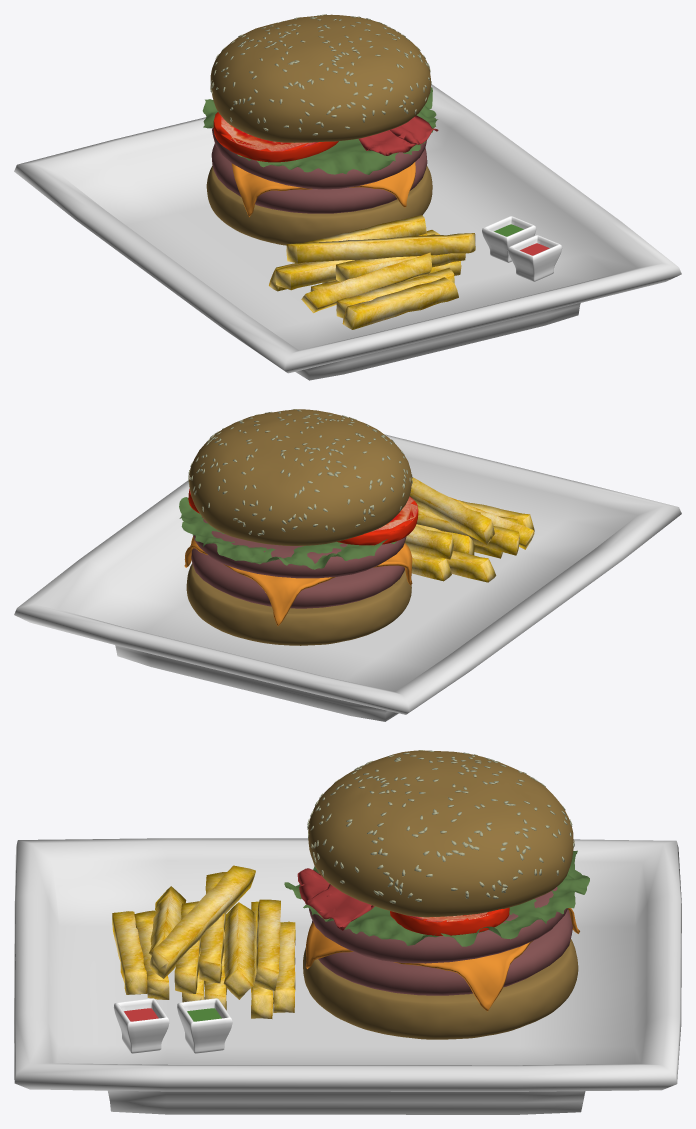
The model's file is menu1.glb.
The picture shows the model from 3 angles, top to bottom: view 1: azimuth 30°, elevation 25°; view 2: azimuth 150°, elevation 25°; view 3: azimuth 270°, elevation 25°; orthographic projection. The views are drawn at different scales.
Parts seen in each view (by area): view 1: plato, Cylinder002_7, Cube073, Cylinder002_2, Cylinder002, Cylinder002_3, Cylinder002_8, Cylinder002_1, Cylinder002_4, Cylinder002_5, Cube002, Cube073_1 (+2 smaller); view 2: plato, Cylinder002_7, Cylinder002, Cylinder002_2, Cube073, Cylinder002_3, Cylinder002_1, Cylinder002_8, Cylinder002_5, Cube073_1, Cylinder002_6; view 3: plato, Cylinder002_7, Cube073, Cylinder002, Cylinder002_2, Cube073_1, Cylinder002_3, Cylinder002_1, Cylinder002_8, Cylinder002_4, Cube002, Cube003 (+1 smaller).
Boxes of the visible parts, x1=… form: plato: x1=14, y1=84, x2=681, y2=380; Cylinder002_7: x1=210, y1=14, x2=430, y2=142; Cube073: x1=276, y1=215, x2=474, y2=329; Cylinder002_2: x1=211, y1=127, x2=427, y2=213; Cylinder002: x1=206, y1=165, x2=432, y2=245; Cylinder002_3: x1=202, y1=87, x2=437, y2=174; Cylinder002_8: x1=210, y1=14, x2=431, y2=135; Cylinder002_1: x1=231, y1=162, x2=415, y2=216; Cylinder002_4: x1=358, y1=115, x2=438, y2=155; Cylinder002_5: x1=213, y1=112, x2=338, y2=162; Cube002: x1=507, y1=235, x2=562, y2=281; Cube073_1: x1=269, y1=227, x2=475, y2=329; plato: x1=14, y1=434, x2=681, y2=721; Cylinder002_7: x1=189, y1=409, x2=411, y2=545; Cylinder002: x1=186, y1=563, x2=411, y2=645; Cylinder002_2: x1=191, y1=517, x2=406, y2=608; Cube073: x1=404, y1=477, x2=533, y2=582; Cylinder002_3: x1=179, y1=497, x2=396, y2=569; Cylinder002_1: x1=184, y1=536, x2=412, y2=625; Cylinder002_8: x1=188, y1=409, x2=412, y2=535; Cylinder002_5: x1=188, y1=490, x2=418, y2=545; Cube073_1: x1=438, y1=513, x2=534, y2=582; Cylinder002_6: x1=189, y1=489, x2=417, y2=531; plato: x1=14, y1=838, x2=681, y2=1114; Cylinder002_7: x1=308, y1=750, x2=573, y2=917; Cube073: x1=112, y1=865, x2=295, y2=1015; Cylinder002: x1=303, y1=939, x2=578, y2=1039; Cylinder002_2: x1=309, y1=887, x2=572, y2=995; Cube073_1: x1=125, y1=948, x2=295, y2=1018; Cylinder002_3: x1=284, y1=850, x2=589, y2=946; Cylinder002_1: x1=305, y1=908, x2=579, y2=1011; Cylinder002_8: x1=307, y1=750, x2=574, y2=903; Cylinder002_4: x1=297, y1=868, x2=374, y2=930; Cube002: x1=113, y1=998, x2=169, y2=1053; Cube003: x1=177, y1=998, x2=232, y2=1053.
Size of the model in its own units: 0.4291 by 0.22 by 0.5033.
16 materials, 3 textured.
